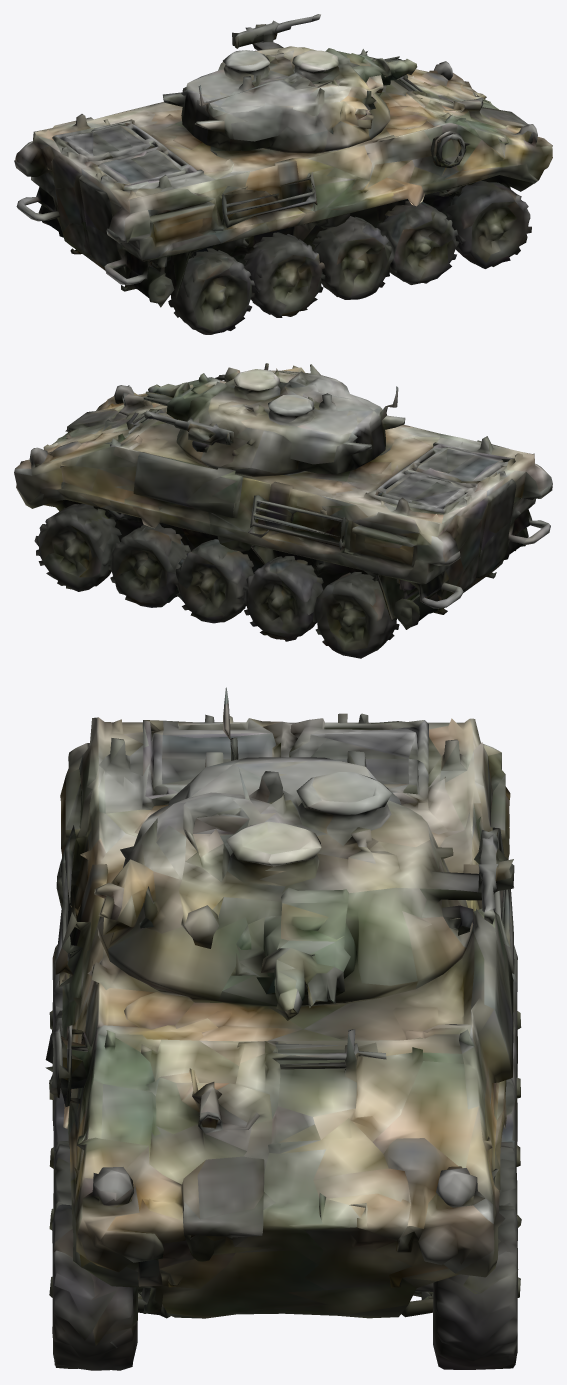
File: mil_apc.glb
The picture shows the model from 3 angles, top to bottom: view 1: azimuth 30°, elevation 25°; view 2: azimuth 150°, elevation 25°; view 3: azimuth 270°, elevation 25°; orthographic projection. The views are drawn at different scales.
Parts seen in each view (by area): view 1: tripo_node_c3ad18d8-ebfd-4e7f-a928-133685421ef2; view 2: tripo_node_c3ad18d8-ebfd-4e7f-a928-133685421ef2; view 3: tripo_node_c3ad18d8-ebfd-4e7f-a928-133685421ef2.
Boxes of the visible parts, left/top/right/bottom form: tripo_node_c3ad18d8-ebfd-4e7f-a928-133685421ef2: left=14, top=14, right=552, bottom=334; tripo_node_c3ad18d8-ebfd-4e7f-a928-133685421ef2: left=14, top=363, right=552, bottom=658; tripo_node_c3ad18d8-ebfd-4e7f-a928-133685421ef2: left=45, top=687, right=521, bottom=1370.
Size of the model in its own units: 1 by 0.4653 by 0.4673.
1 material, 1 textured.
